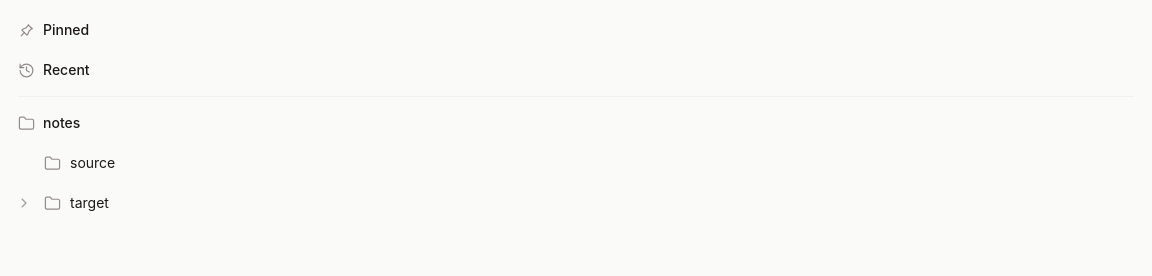
Scenario: FolderTreeView › renders moved folders optimistically while move data is settling
This screenshot has width=1152, height=276.
Expected: the element showing "target" is shown, [14,191,109,215]
Expected: the text "target" is shown, [70,194,109,211]
Click the button named "Expand folder".
click(24, 203)  # box [14,193,34,213]
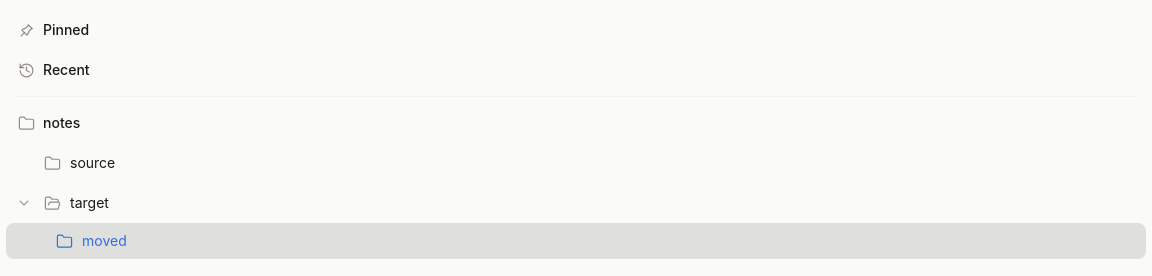
Now the element showing "moved" is shown, box [6,223,1146,259]
